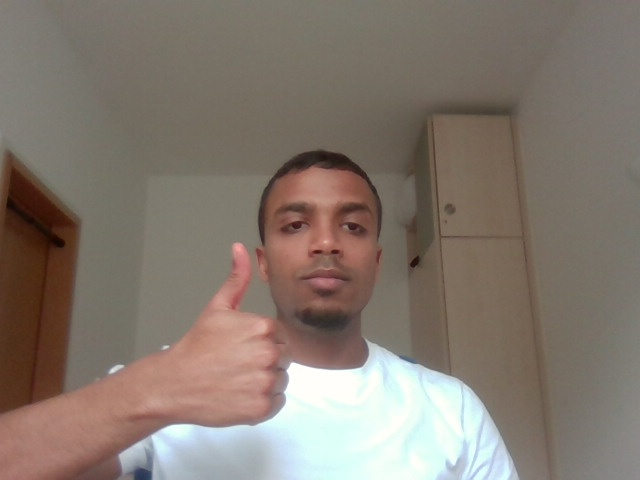yes: (141, 235, 300, 432)
